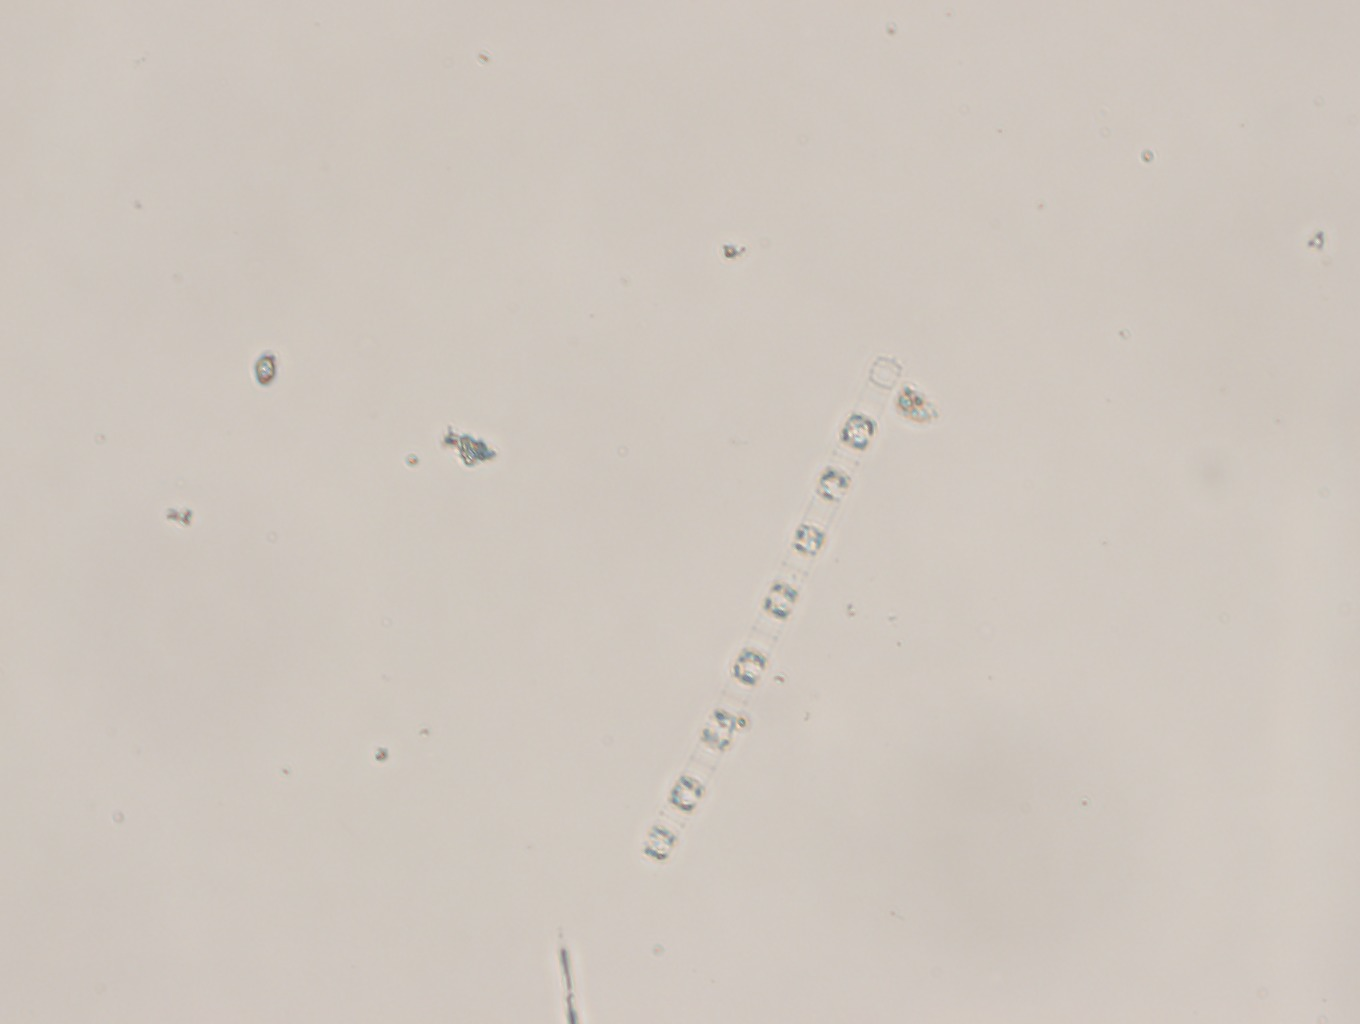skeletonema: (632, 335, 908, 872)
